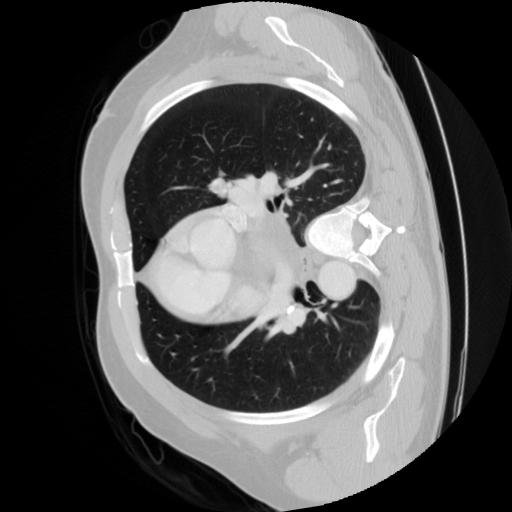nodule: (206, 174, 232, 200)
